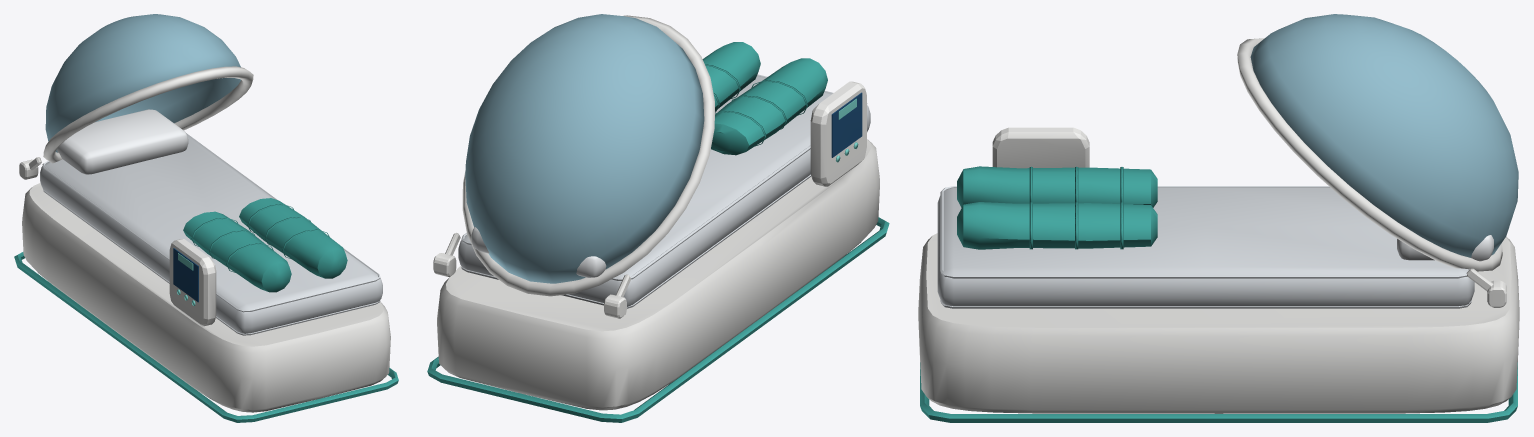
File: recoveryPod.glb
3 renders of one model, left to right at view 1: azimuth 30°, elevation 25°; view 2: azimuth 150°, elevation 25°; view 3: azimuth 270°, elevation 25°, orthographic. The views are drawn at different scales.
Visible parts, largest first — view 1: body, canopy; view 2: body, canopy; view 3: body, canopy.
Boxes of the visible parts, x1=… form: body: x1=14, y1=109, x2=398, y2=422; canopy: x1=29, y1=14, x2=253, y2=170; body: x1=427, y1=42, x2=889, y2=422; canopy: x1=445, y1=14, x2=714, y2=296; body: x1=918, y1=127, x2=1519, y2=422; canopy: x1=1237, y1=14, x2=1518, y2=291.
Bounding box in the file's own units: 0.8586 × 1.17 × 1.86.
